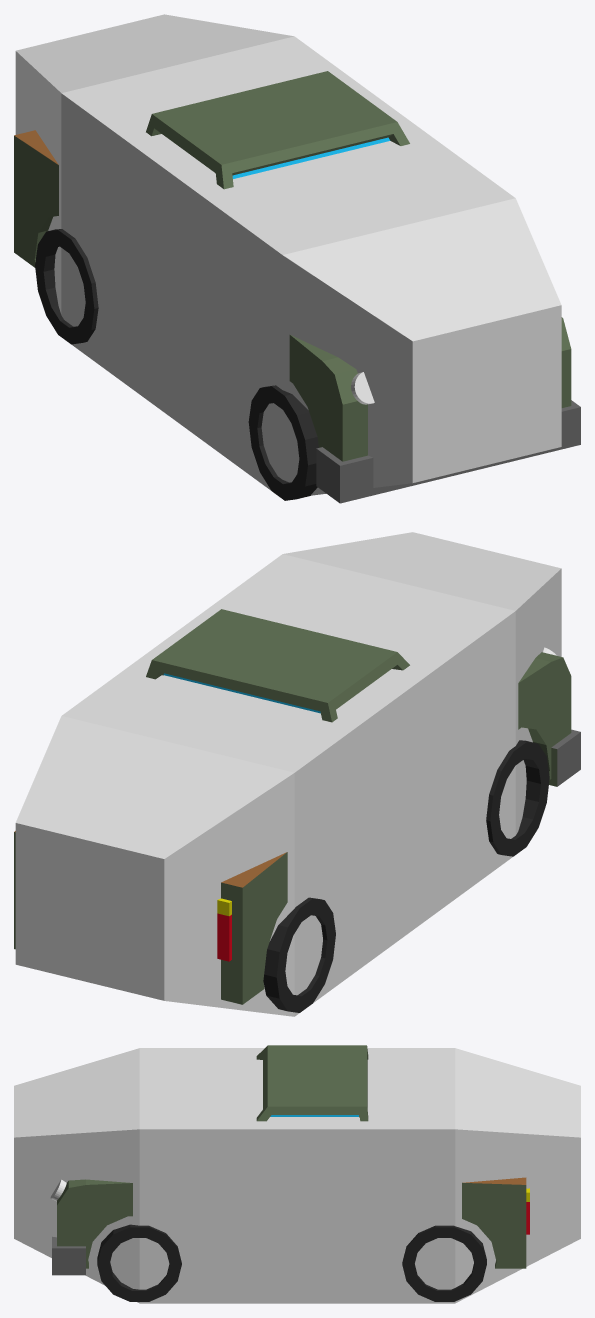
Rendered from AI_SUV 1.fbx.
The picture shows the model from 3 angles, top to bottom: view 1: azimuth 30°, elevation 25°; view 2: azimuth 150°, elevation 25°; view 3: azimuth 270°, elevation 25°; orthographic projection. The views are drawn at different scales.
Parts seen in each view (by area): view 1: car physic .002, pickup, wheel.005, wheel.006; view 2: car physic .002, pickup, wheel.006, wheel.005; view 3: car physic .002, pickup, wheel.005, wheel.006.
Boxes of the visible parts, x1,y1,x2,y2 form: car physic .002: (15, 14, 561, 495); pickup: (14, 71, 580, 503); wheel.005: (248, 385, 318, 500); wheel.006: (35, 229, 98, 344); car physic .002: (15, 532, 561, 1016); pickup: (14, 609, 580, 1004); wheel.006: (263, 897, 335, 1012); wheel.005: (486, 740, 549, 856); car physic .002: (14, 1048, 580, 1303); pickup: (50, 1045, 529, 1275); wheel.005: (97, 1224, 181, 1301); wheel.006: (402, 1225, 486, 1301).
Size of the model in its own units: 32.61 by 33.73 by 92.82.
